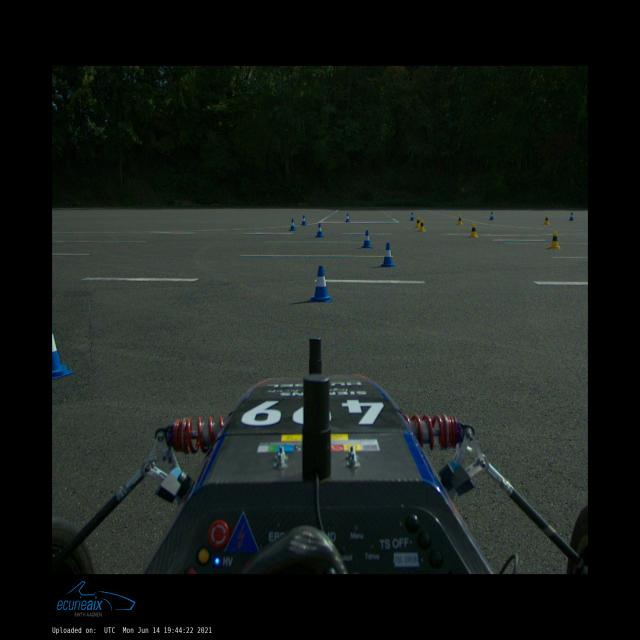blue_cone: (52, 328, 74, 380), (309, 266, 331, 302), (380, 244, 396, 268), (362, 230, 372, 248), (315, 223, 324, 238), (289, 219, 296, 231), (300, 216, 306, 226), (569, 212, 574, 221), (345, 213, 350, 222), (410, 213, 415, 220), (490, 212, 494, 220)
yellow_cone: (549, 231, 561, 249), (469, 223, 478, 238), (418, 220, 426, 232), (457, 215, 463, 225), (544, 215, 550, 224), (416, 216, 420, 228)
